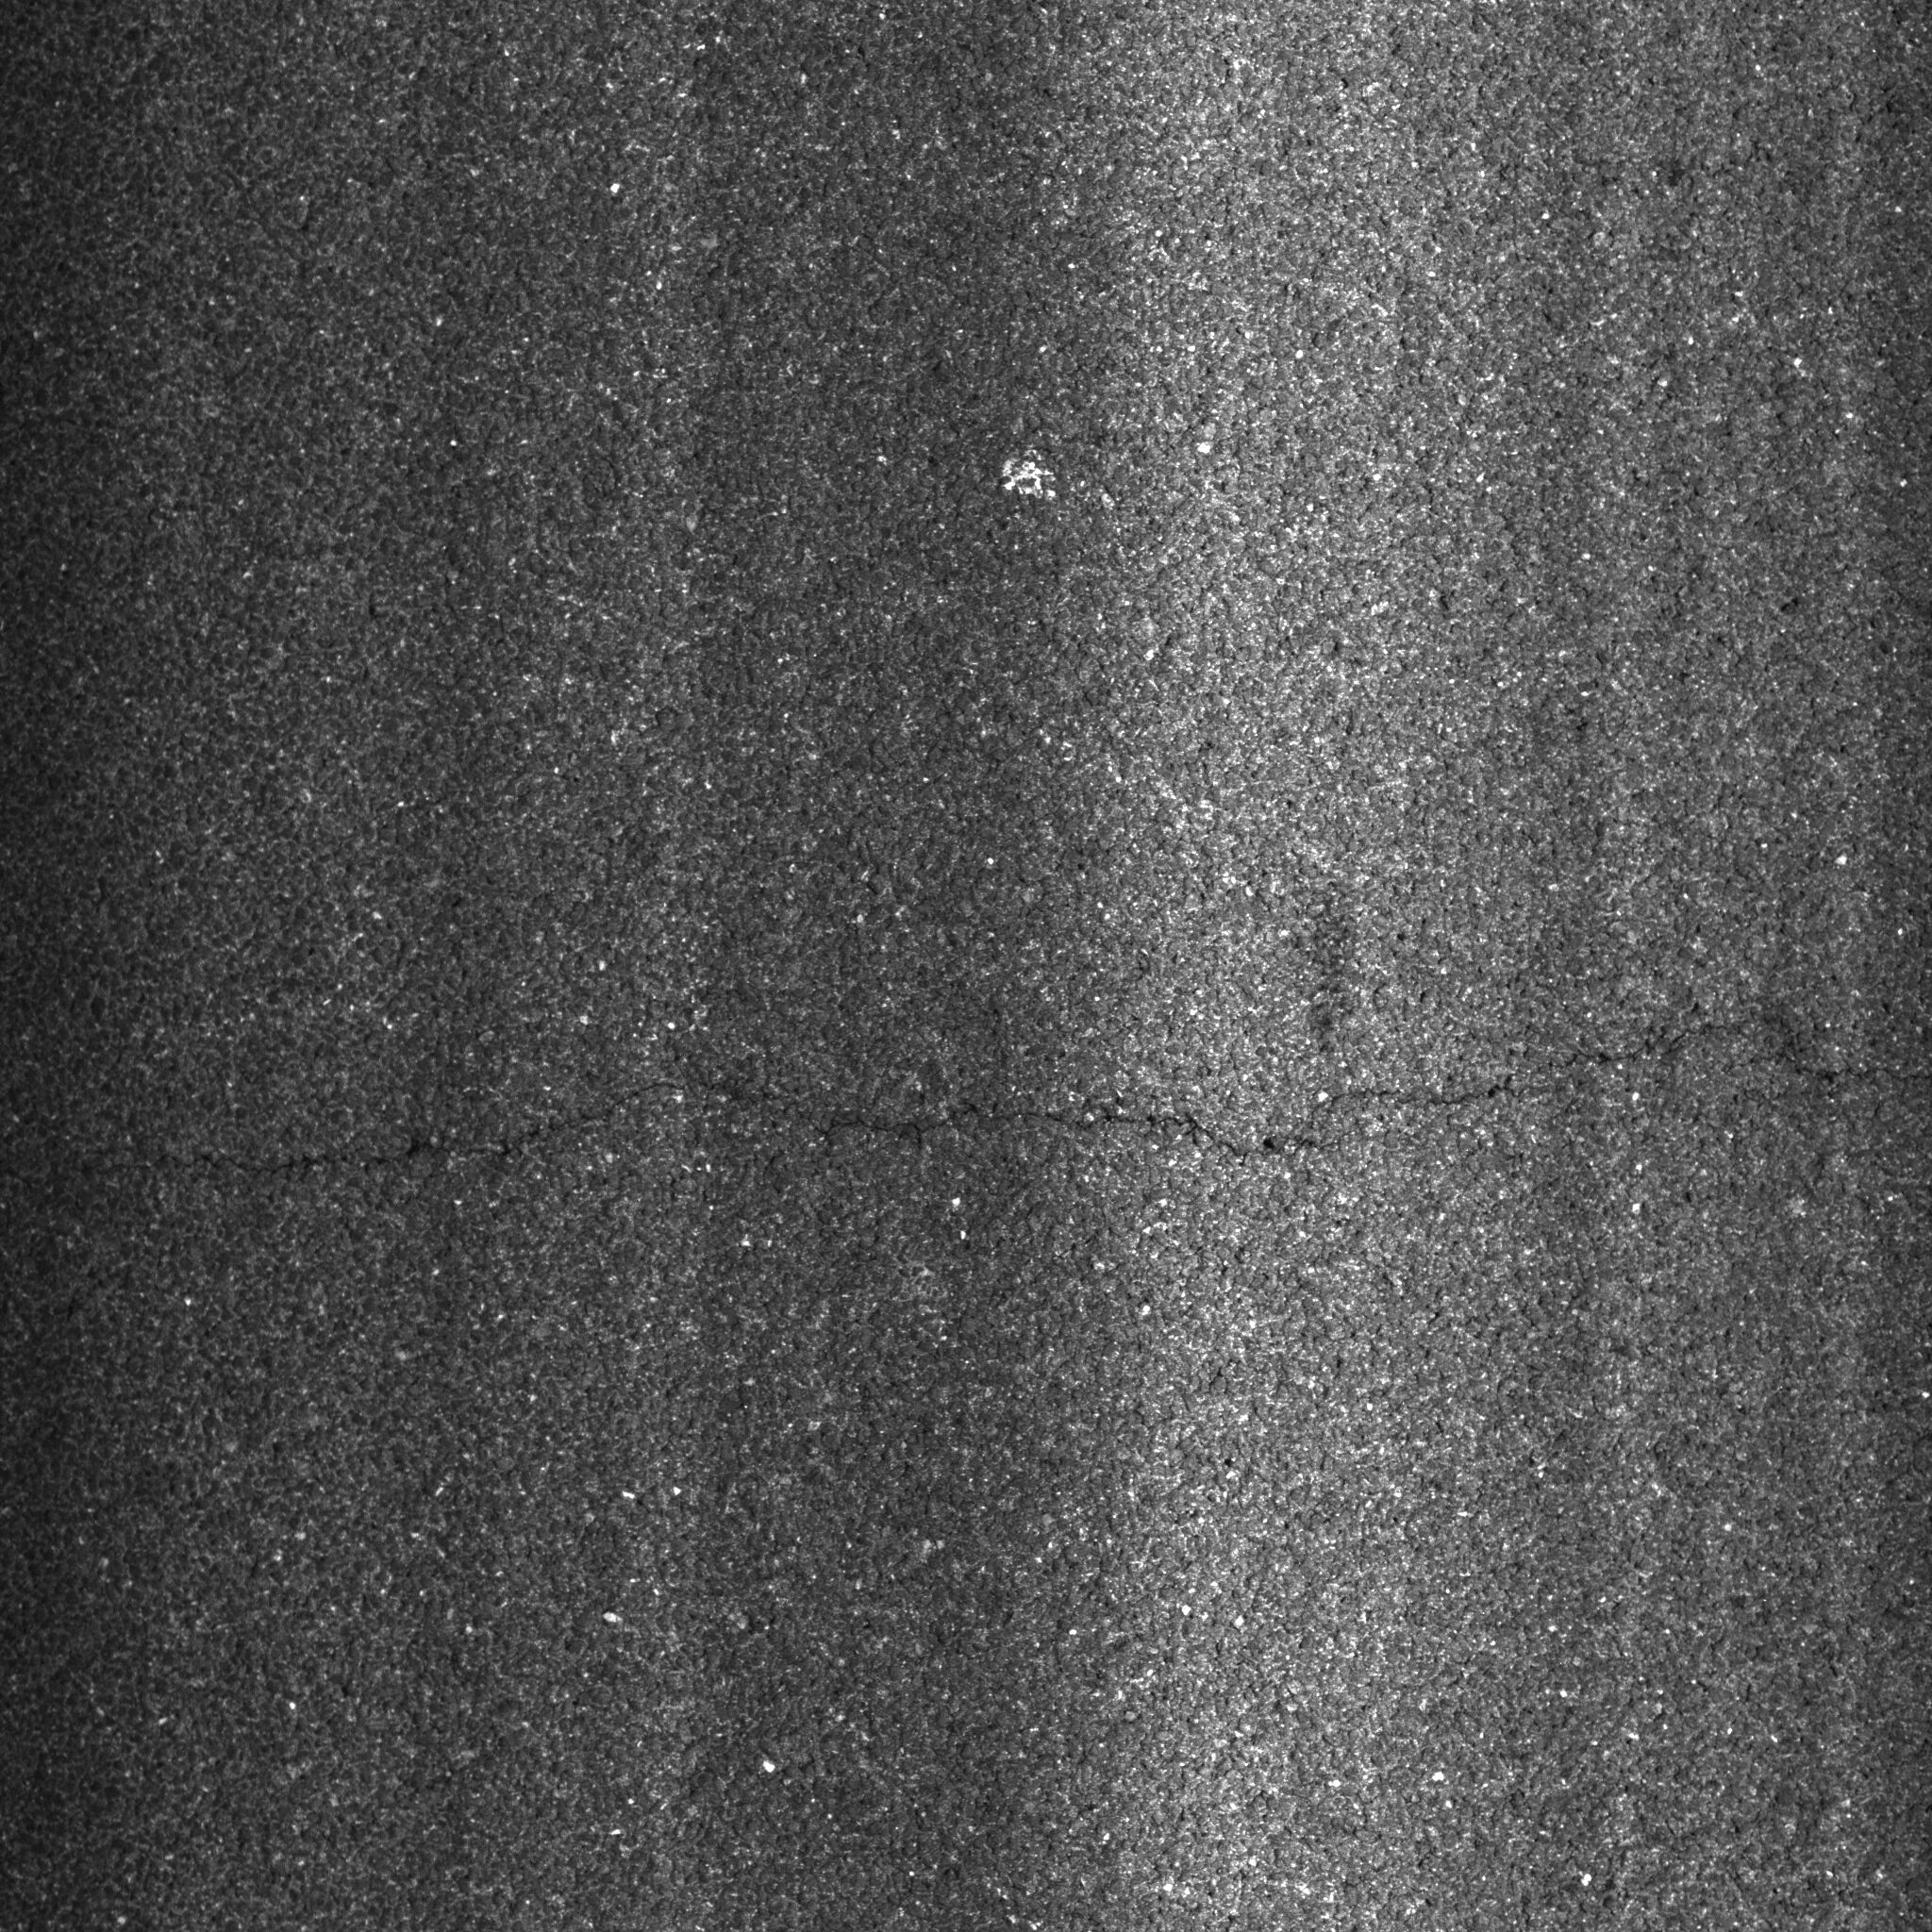transverse: (9, 977, 1879, 1246)
